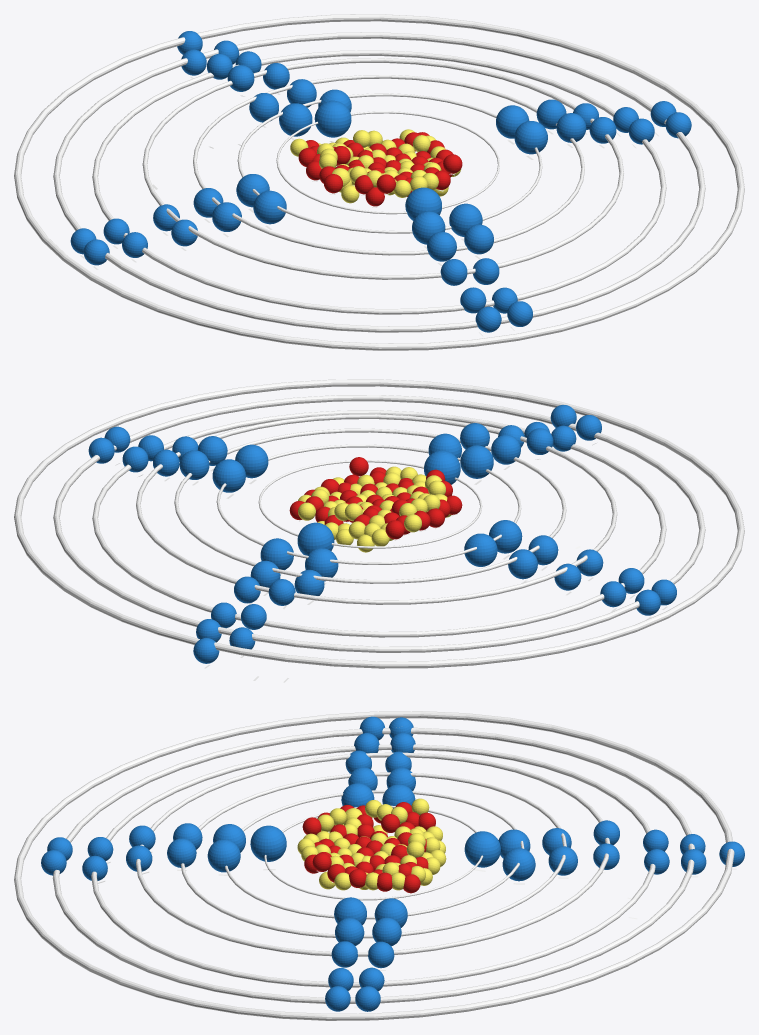
The picture shows the model from 3 angles, top to bottom: view 1: azimuth 30°, elevation 25°; view 2: azimuth 150°, elevation 25°; view 3: azimuth 270°, elevation 25°; orthographic projection.
Visible parts, largest first — view 1: Torus.007, Torus.006, Torus.005, Torus.004, Torus.003, Torus.002, Torus.001, g, g.005, g.003, g.008, g.001 (+17 smaller); view 2: Torus.007, Torus.006, Torus.005, Torus.004, Torus.003, Torus.002, Torus.001, g, g.006, g.004, g.002, g.005 (+29 smaller); view 3: Torus.007, Torus.006, Torus.005, Torus.004, Torus.003, Torus.002, g.001, g, Torus.001, g.007, g.009, g.015 (+15 smaller).
Part boxes in pixels (left/top/right/bottom): Torus.007: left=14, top=14, right=744, bottom=350; Torus.006: left=53, top=32, right=705, bottom=332; Torus.005: left=92, top=50, right=666, bottom=314; Torus.004: left=142, top=58, right=623, bottom=279; Torus.003: left=193, top=75, right=584, bottom=255; Torus.002: left=237, top=93, right=542, bottom=233; Torus.001: left=276, top=111, right=499, bottom=214; g: left=314, top=100, right=351, bottom=137; g.005: left=514, top=121, right=547, bottom=154; g.003: left=253, top=190, right=286, bottom=224; g.008: left=279, top=103, right=312, bottom=136; g.001: left=405, top=187, right=441, bottom=220; Torus.007: left=14, top=379, right=744, bottom=668; Torus.006: left=53, top=395, right=705, bottom=652; Torus.005: left=92, top=410, right=666, bottom=637; Torus.004: left=136, top=414, right=617, bottom=604; Torus.003: left=174, top=428, right=566, bottom=583; Torus.002: left=216, top=444, right=521, bottom=564; Torus.001: left=258, top=460, right=482, bottom=548; g: left=297, top=522, right=334, bottom=555; g.006: left=460, top=445, right=493, bottom=478; g.004: left=212, top=459, right=245, bottom=492; g.002: left=464, top=533, right=497, bottom=566; g.005: left=235, top=444, right=268, bottom=478; Torus.007: left=14, top=711, right=734, bottom=1020; Torus.006: left=52, top=727, right=694, bottom=1003; Torus.005: left=91, top=744, right=655, bottom=987; Torus.004: left=136, top=752, right=610, bottom=956; Torus.003: left=181, top=772, right=566, bottom=938; Torus.002: left=225, top=790, right=524, bottom=919; g.001: left=250, top=825, right=286, bottom=861; g: left=464, top=831, right=500, bottom=867; Torus.001: left=264, top=805, right=483, bottom=900; g.007: left=207, top=839, right=240, bottom=872; g.009: left=502, top=848, right=535, bottom=881; g.015: left=167, top=838, right=196, bottom=867.
Bounding box in the file's own units: 19.64 × 2.92 × 19.91.
